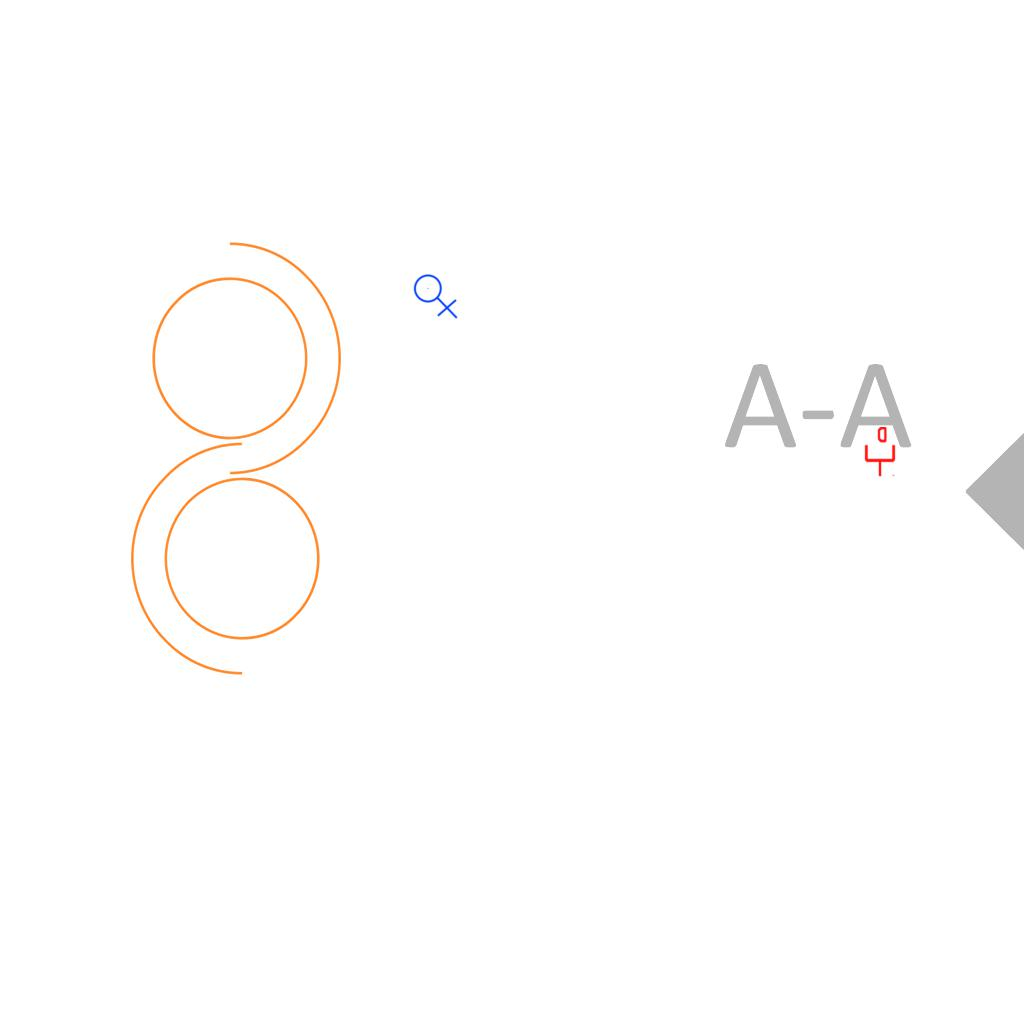Datenanschluss_einfach: (863, 427, 897, 477)
Elektroanschluss_allgemein_230V_Geraeteanschlussdose_230V: (413, 270, 460, 319)
Scheinwerfer_fuer_Alarmbeleuchtung: (127, 220, 352, 484), (120, 433, 345, 697)
